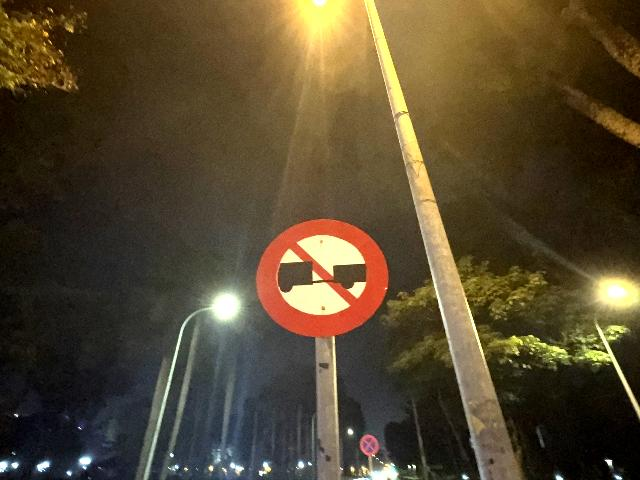cam-xe-somi-romooc: (256, 217, 390, 338)
